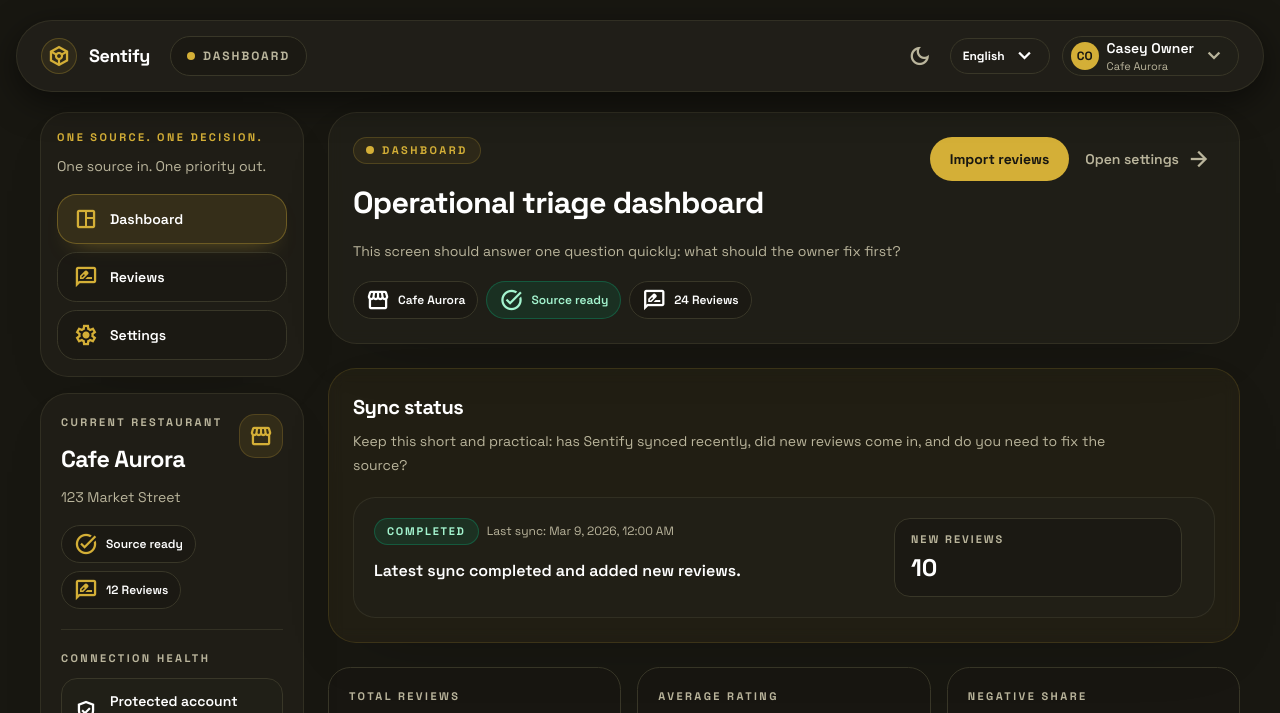
Test: Sentify app shell › does not refetch restaurant detail when switching between app tabs
Check: the heading "Operational triage dashboard" is shown, box [353,182,764,222]
Click the button "Reviews" at [172, 276], box [57,252,287,302]
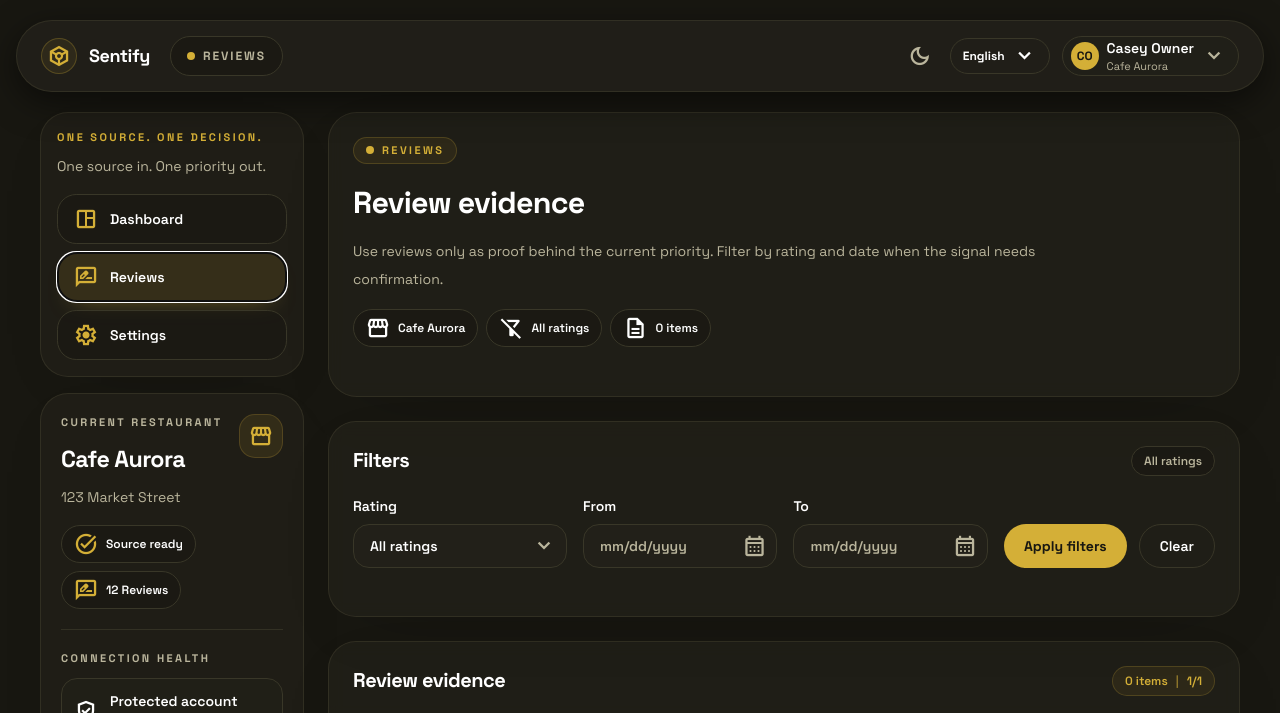
Check: the 1st heading "Review evidence" is shown, box [353,182,584,222]
